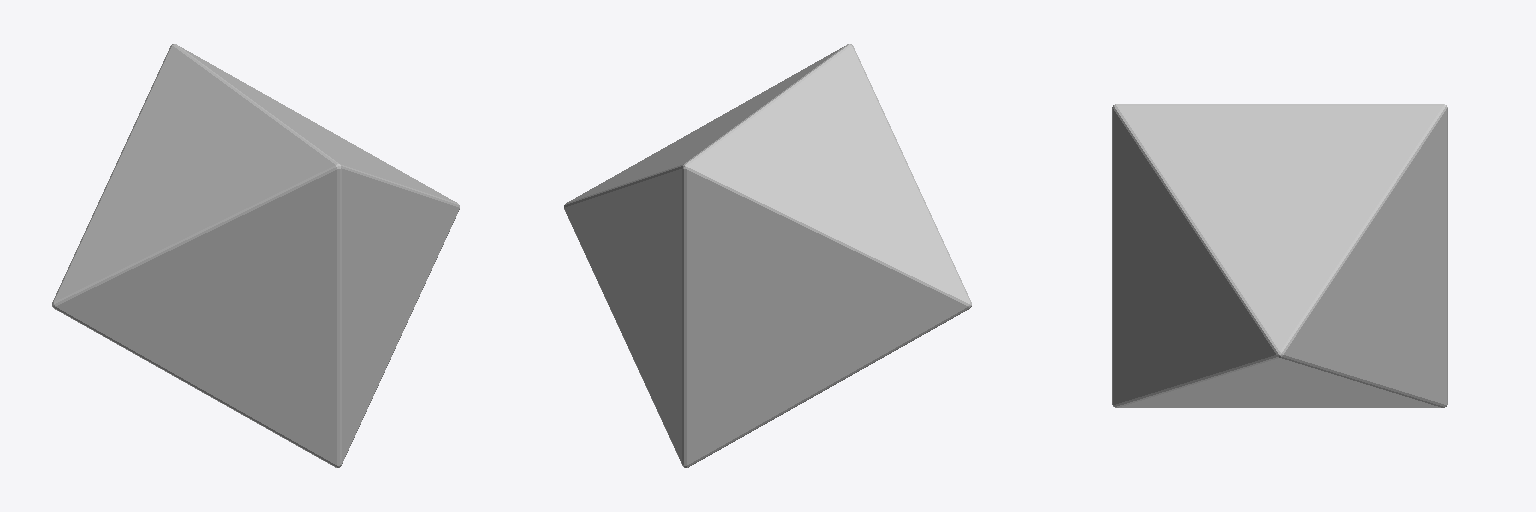
3 views of the same model, side by side, from view 1: azimuth 30°, elevation 25°; view 2: azimuth 150°, elevation 25°; view 3: azimuth 270°, elevation 25° (orthographic).
Visible parts, largest first — view 1: Octahedron.003; view 2: Octahedron.003; view 3: Octahedron.003.
Boxes of the visible parts, <box> form: Octahedron.003: <box>52,44,459,467</box>; Octahedron.003: <box>564,44,971,467</box>; Octahedron.003: <box>1112,104,1447,407</box>.
Bounding box in the file's own units: 0.8161 × 0.581 × 0.581.